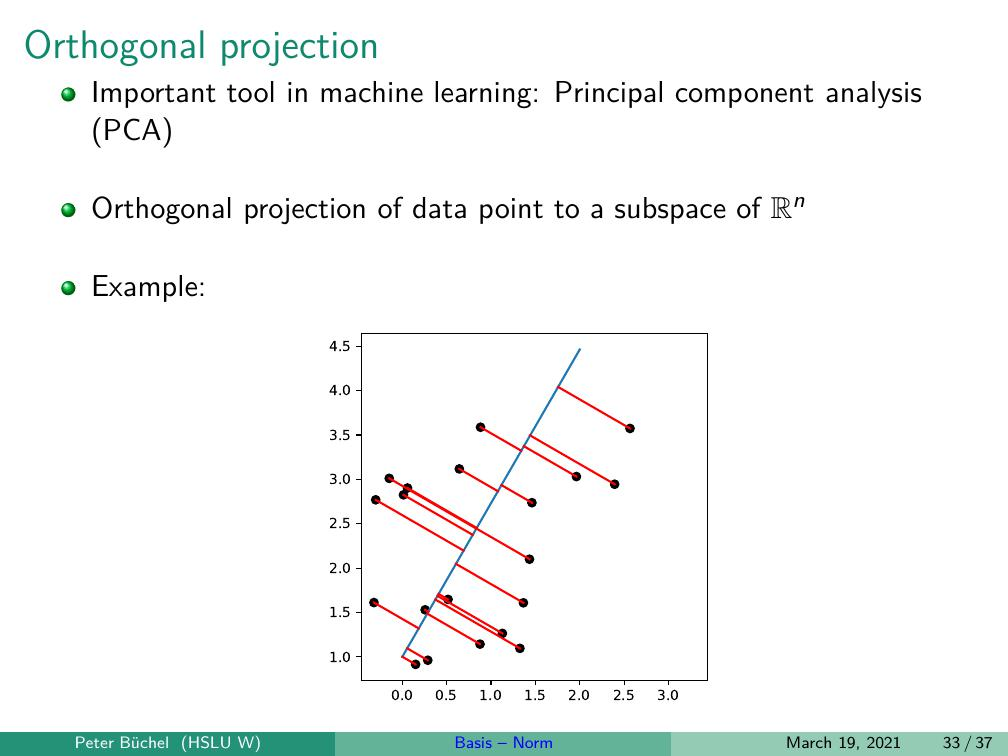Title: (19, 23, 390, 70)
